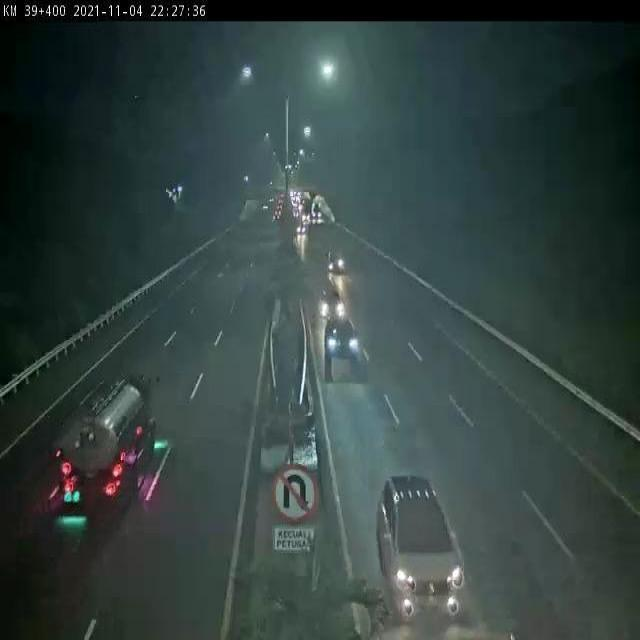car: (379, 475, 461, 616), (324, 315, 357, 359), (319, 288, 343, 316)
truck: (54, 375, 157, 513)
